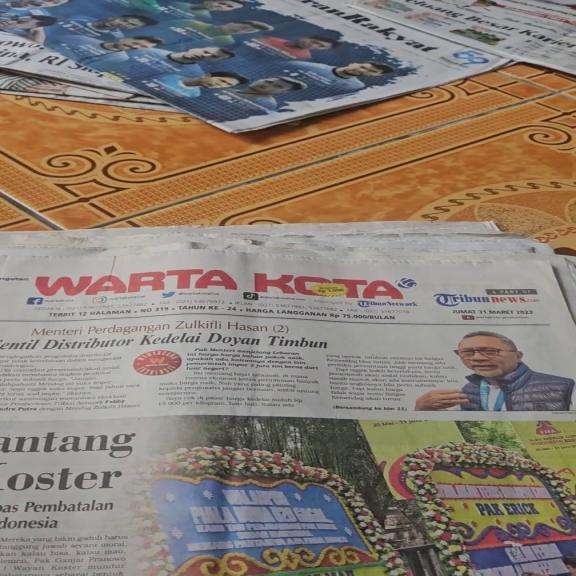Kertas: (3, 248, 567, 572), (34, 1, 572, 67)
